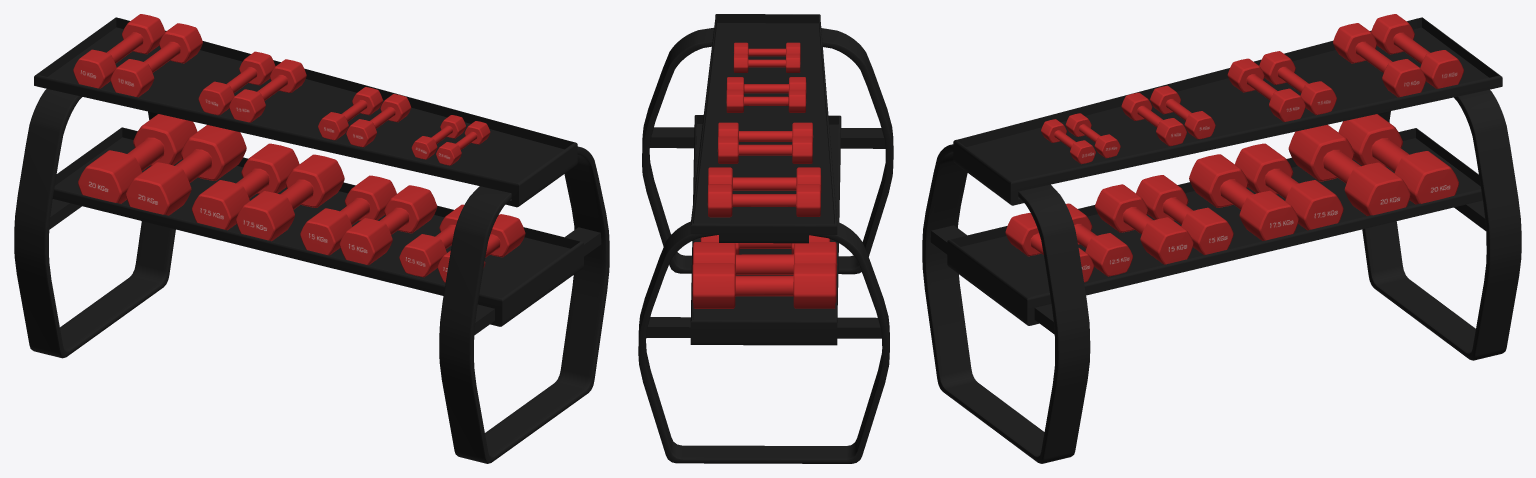
File: WeightRack.fbx
The picture shows the model from 3 angles, left to right: view 1: azimuth 30°, elevation 25°; view 2: azimuth 150°, elevation 25°; view 3: azimuth 270°, elevation 25°; orthographic projection. The views are drawn at different scales.
Visible parts, largest first — view 1: Weight_Rack; view 2: Weight_Rack; view 3: Weight_Rack.
Part boxes in pixels (x1,y1,x2,y2): Weight_Rack: [14, 14, 609, 463]; Weight_Rack: [638, 14, 893, 463]; Weight_Rack: [922, 14, 1521, 463].
Size of the model in its own units: 141 by 89.32 by 169.
